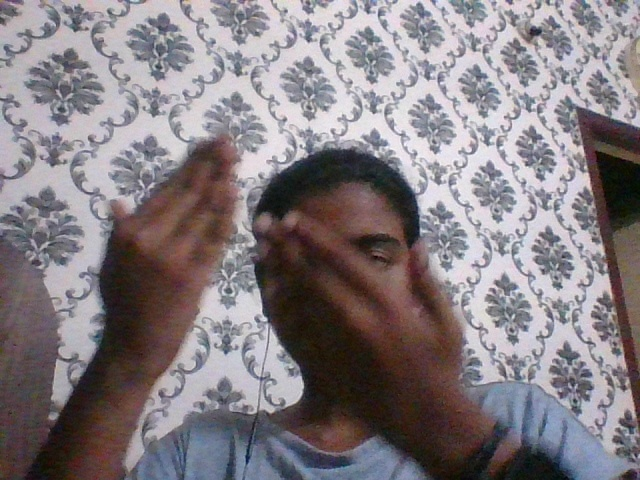thanks: (86, 134, 470, 400)
